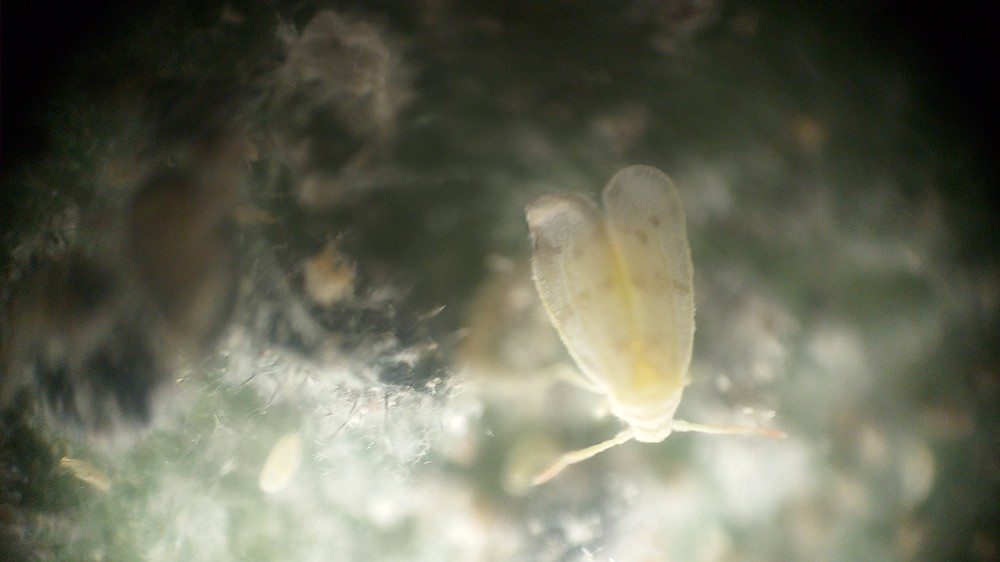Mosca Blanca: (475, 166, 813, 518)
